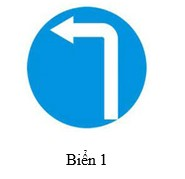Turn_left: (26, 6, 150, 130)
